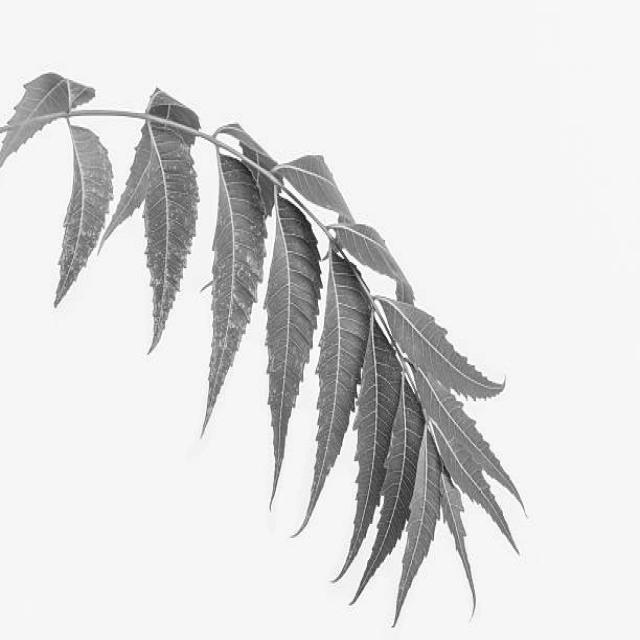Neem-Tree: (0, 73, 522, 620)
